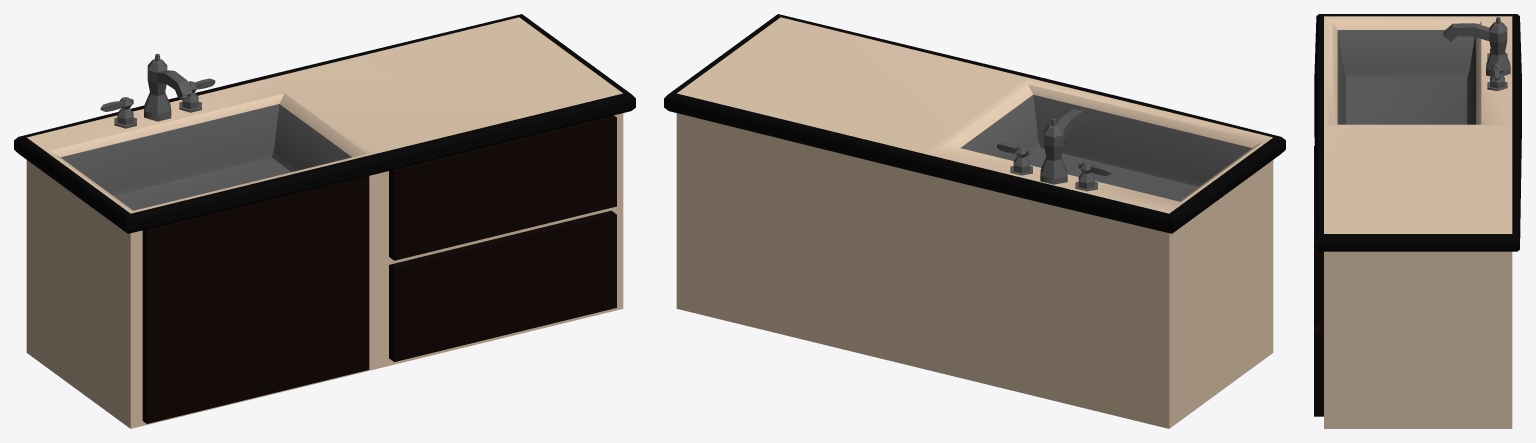
Rendered from Zen_KitchenSink.FBX.
The picture shows the model from 3 angles, left to right: view 1: azimuth 30°, elevation 25°; view 2: azimuth 150°, elevation 25°; view 3: azimuth 270°, elevation 25°; orthographic projection. The views are drawn at different scales.
Parts seen in each view (by area): view 1: Zen_KitchenSink, Zen_KitchenSinkCabinet1, Zen_KitchenSinkDrawer2, Zen_KitchenSinkCabinet2, Zen_KitchenSinkDrawer1, Zen_KitchenTap; view 2: Zen_KitchenSink, Zen_KitchenTap; view 3: Zen_KitchenSink, Zen_KitchenTap, Zen_KitchenSinkDrawer1, Zen_KitchenSinkDrawer2, Zen_KitchenTapRight.
Part boxes in pixels (box(x1,y1,x2,y2)): Zen_KitchenSink: box(14, 14, 635, 428); Zen_KitchenSinkCabinet1: box(142, 203, 258, 423); Zen_KitchenSinkDrawer2: box(389, 210, 616, 361); Zen_KitchenSinkCabinet2: box(257, 176, 369, 396); Zen_KitchenSinkDrawer1: box(389, 115, 616, 260); Zen_KitchenTap: box(144, 53, 192, 121); Zen_KitchenSink: box(664, 14, 1285, 428); Zen_KitchenTap: box(1040, 108, 1088, 184); Zen_KitchenSink: box(1314, 14, 1521, 428); Zen_KitchenTap: box(1443, 17, 1510, 76); Zen_KitchenSinkDrawer1: box(1314, 146, 1323, 324); Zen_KitchenSinkDrawer2: box(1314, 325, 1323, 416); Zen_KitchenTapRight: box(1487, 63, 1507, 90).
Bounding box in the file's own units: 128 × 65.83 × 50.02.
